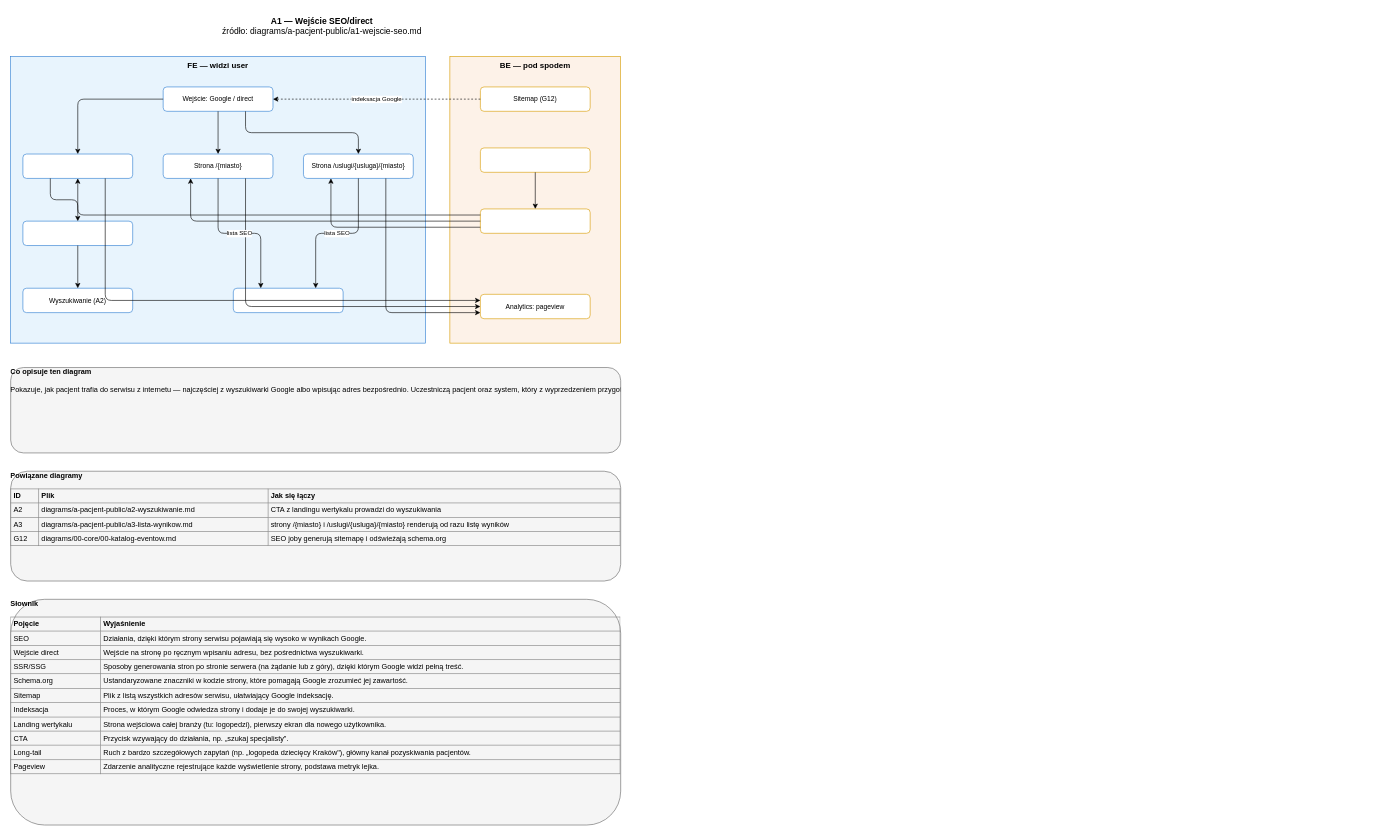
The diagram is 1382 pixels wide and 836 high, and some of its shapes have lost their labels. Here are the shapes that lost their labels. From the top down, the centre of each, then its label:
At (x=77, y=165): "Landing wertykalu".
At (x=535, y=159): "Schema.org w HTML".
At (x=77, y=233): "CTA: szukaj specjalisty".
At (x=535, y=220): "SSR/SSG render stron".
At (x=288, y=300): "Lista wyników (A3)".
